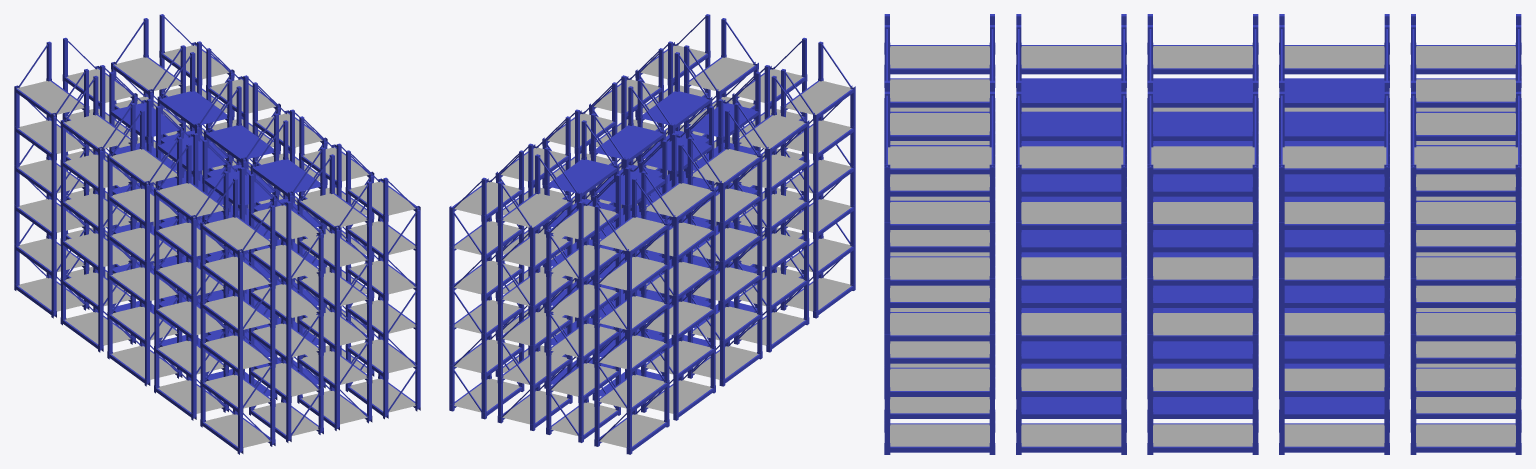
Rendered from rack223.gltf.
3 views of the same model, side by side, from view 1: azimuth 30°, elevation 25°; view 2: azimuth 150°, elevation 25°; view 3: azimuth 270°, elevation 25° (orthographic). The views are drawn at different scales.
Bounding box in the file's own units: 5.61 × 7.11 × 12.11.
2 materials, 1 textured.
